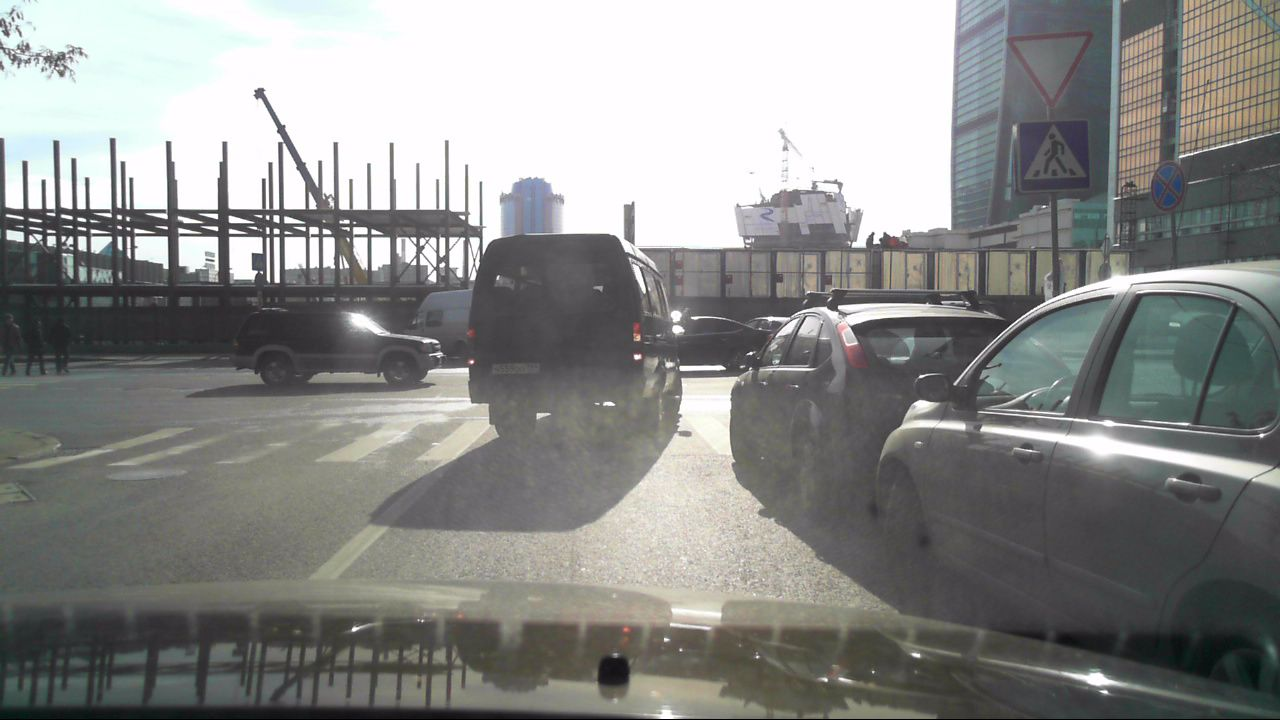No Parking: (1150, 158, 1186, 212)
